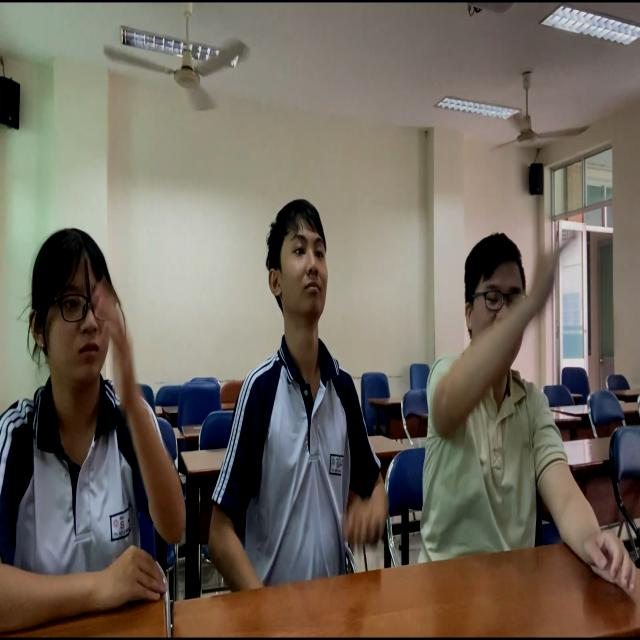raise_hand: (1, 225, 183, 608)
